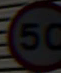Speed limit: (10, 4, 58, 63)
